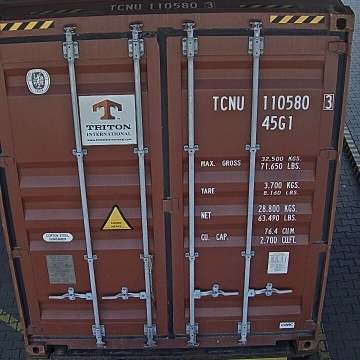serial_id: (212, 94, 334, 110)
